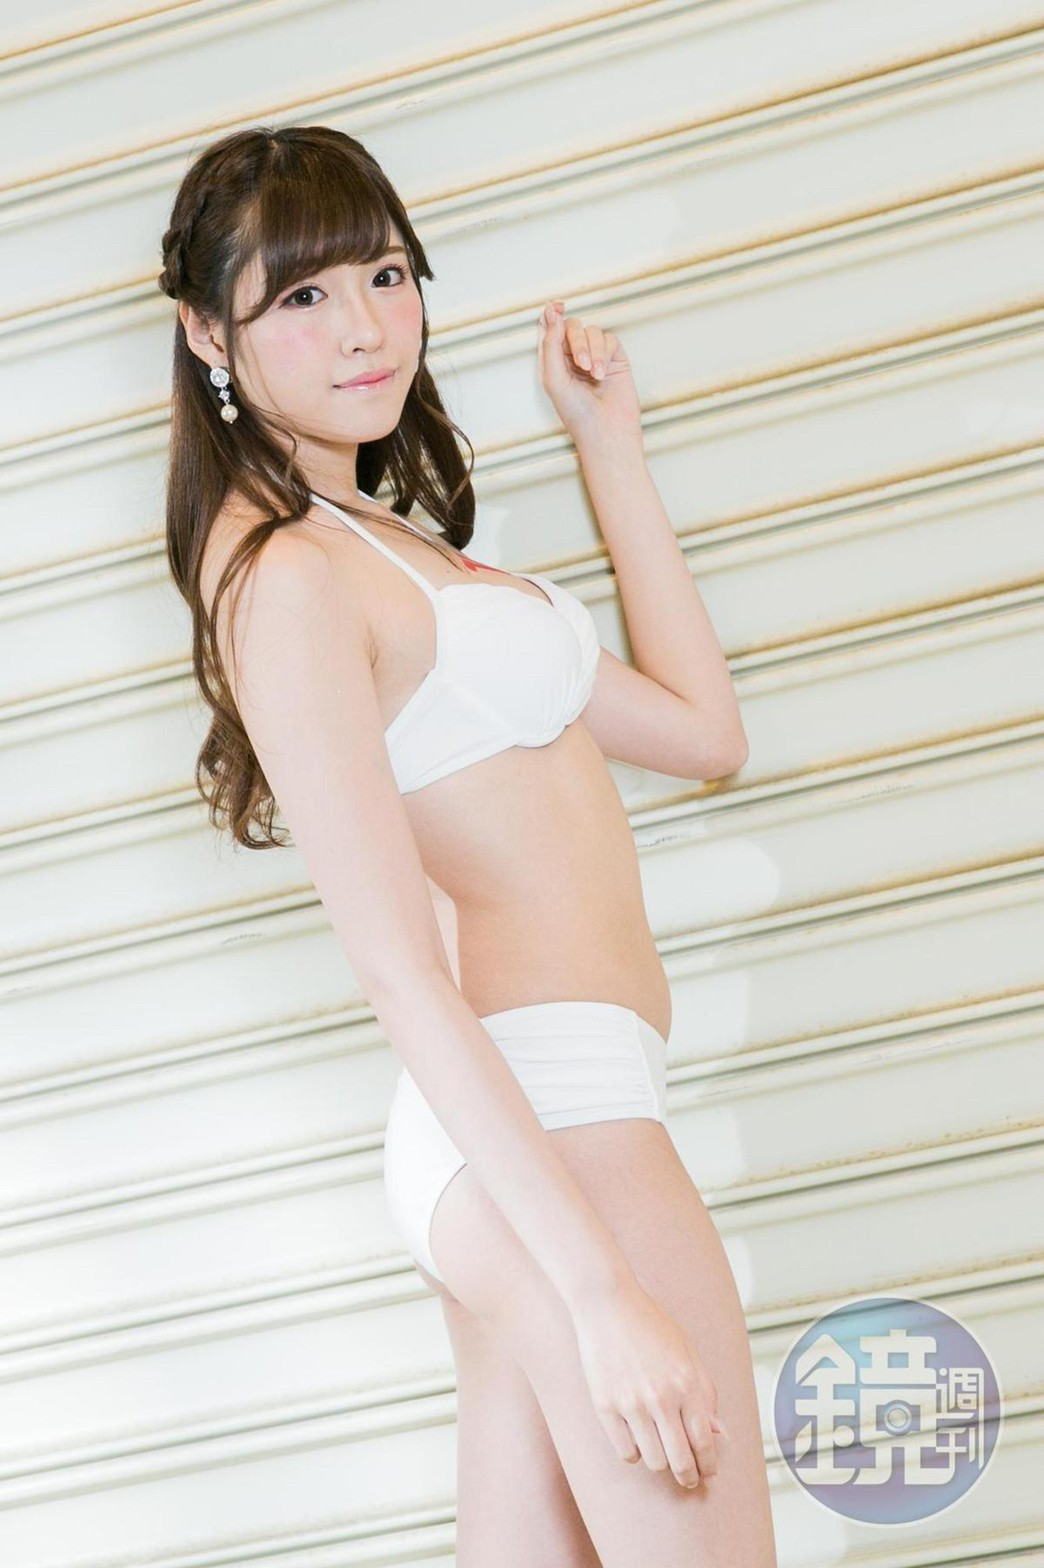people: (116, 135, 803, 1568)
